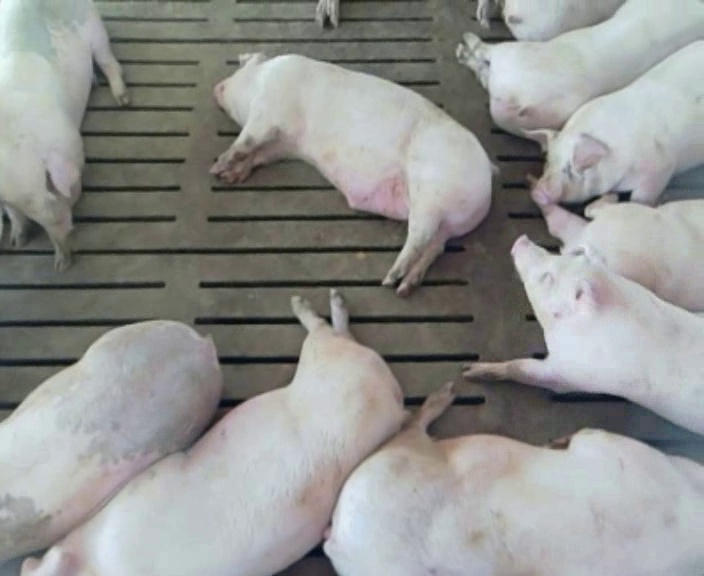pig: (22, 290, 405, 573), (324, 385, 703, 574), (210, 53, 491, 295), (0, 321, 221, 563), (464, 236, 703, 434), (456, 2, 703, 134), (519, 41, 703, 204), (503, 1, 622, 40)
